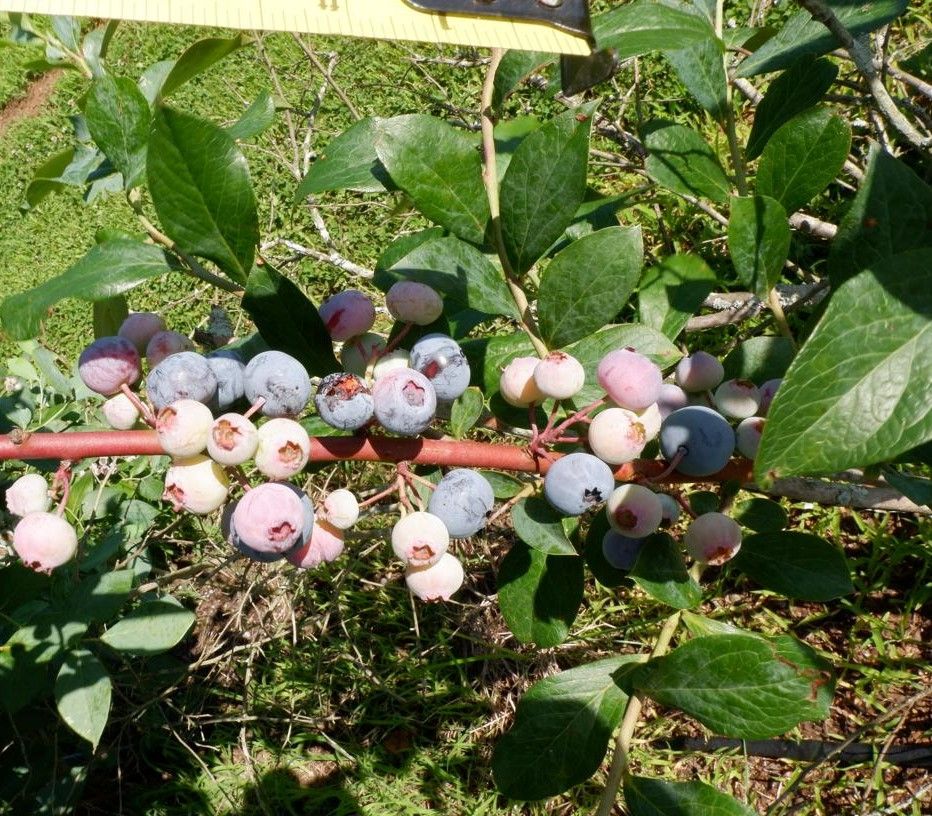Immature: (235, 482, 305, 553), (12, 513, 78, 577), (596, 346, 663, 409), (162, 454, 230, 514), (79, 336, 141, 394), (155, 400, 214, 458), (253, 419, 311, 478), (391, 510, 448, 568), (683, 512, 743, 567), (286, 514, 344, 570), (605, 483, 662, 539), (588, 409, 645, 464), (318, 288, 376, 341), (405, 552, 464, 603), (207, 412, 260, 464), (385, 280, 443, 325), (533, 350, 586, 399), (657, 383, 716, 426), (499, 357, 546, 409), (340, 332, 389, 381), (674, 350, 725, 394), (118, 313, 166, 357), (5, 475, 52, 517), (146, 331, 196, 370), (714, 379, 761, 419), (602, 528, 643, 572), (317, 489, 360, 530), (100, 391, 141, 430), (627, 402, 662, 445), (736, 416, 766, 462), (373, 349, 409, 380), (755, 379, 782, 419), (656, 494, 680, 530)
Mature: (219, 481, 313, 562), (658, 407, 736, 478), (242, 350, 312, 419), (427, 469, 495, 538), (543, 453, 616, 517), (372, 367, 437, 436), (146, 352, 220, 409), (408, 333, 471, 399), (314, 372, 376, 430), (201, 350, 250, 412)
